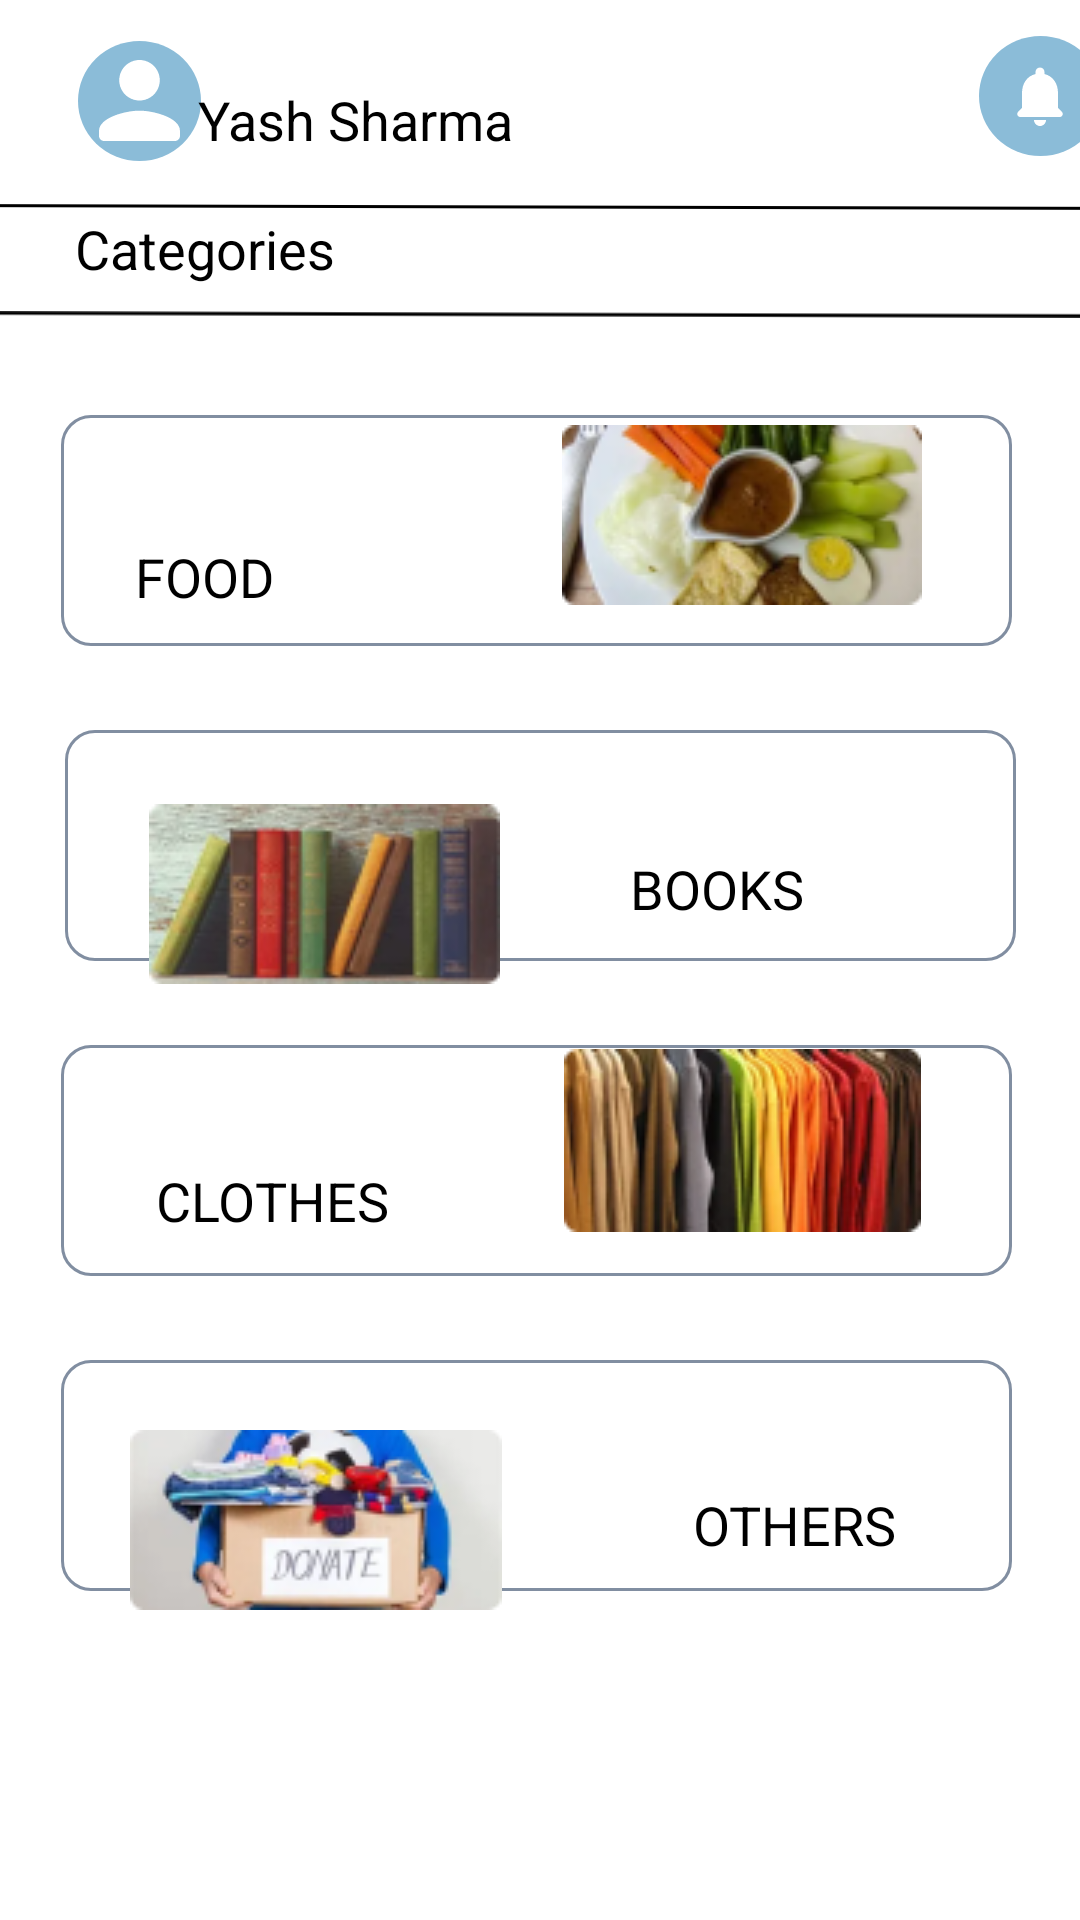

Named icons in this screenshot (1080 × 1920) and their bounding boxes, bbox(x1, y1, x2, y2):
profile: bbox(78, 41, 201, 161)
